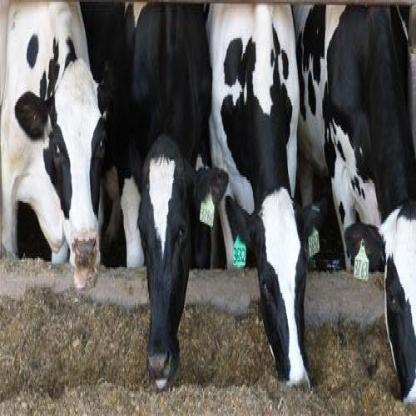cow: (303, 0, 416, 411), (208, 0, 323, 395), (120, 0, 226, 387), (0, 0, 119, 284)
